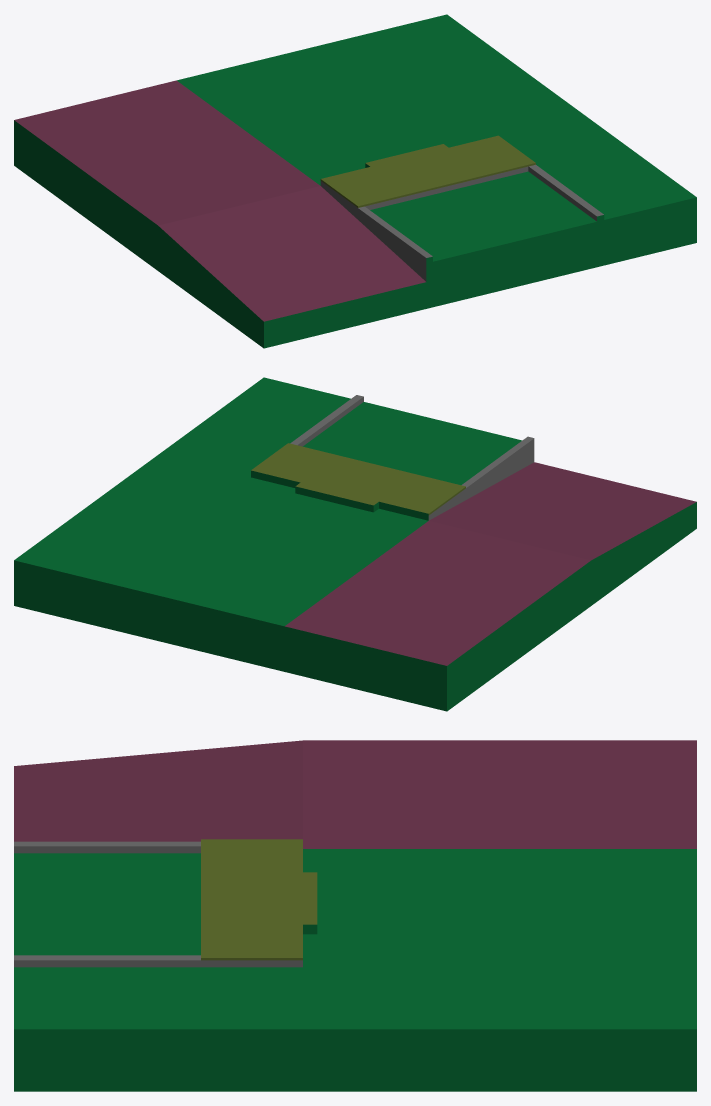
Rendered from lantai.fbx.
The picture shows the model from 3 angles, top to bottom: view 1: azimuth 30°, elevation 25°; view 2: azimuth 150°, elevation 25°; view 3: azimuth 270°, elevation 25°; orthographic projection. The views are drawn at different scales.
Parts seen in each view (by area): view 1: Component_4_1; view 2: Component_4_1; view 3: Component_4_1.
Part boxes in pixels (left/top/right/bottom): Component_4_1: left=14, top=14, right=696, bottom=348; Component_4_1: left=14, top=377, right=696, bottom=711; Component_4_1: left=14, top=740, right=696, bottom=1091.
Size of the model in its own units: 940 by 109 by 939.
